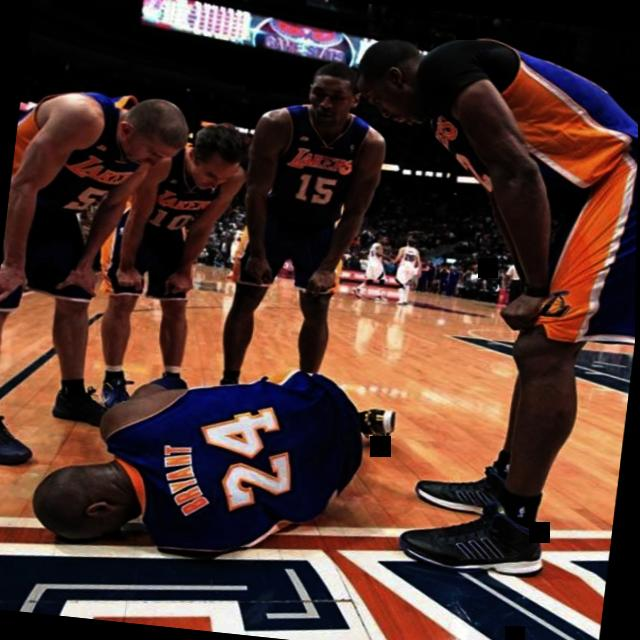Fall-Detected: (20, 322, 418, 586)
